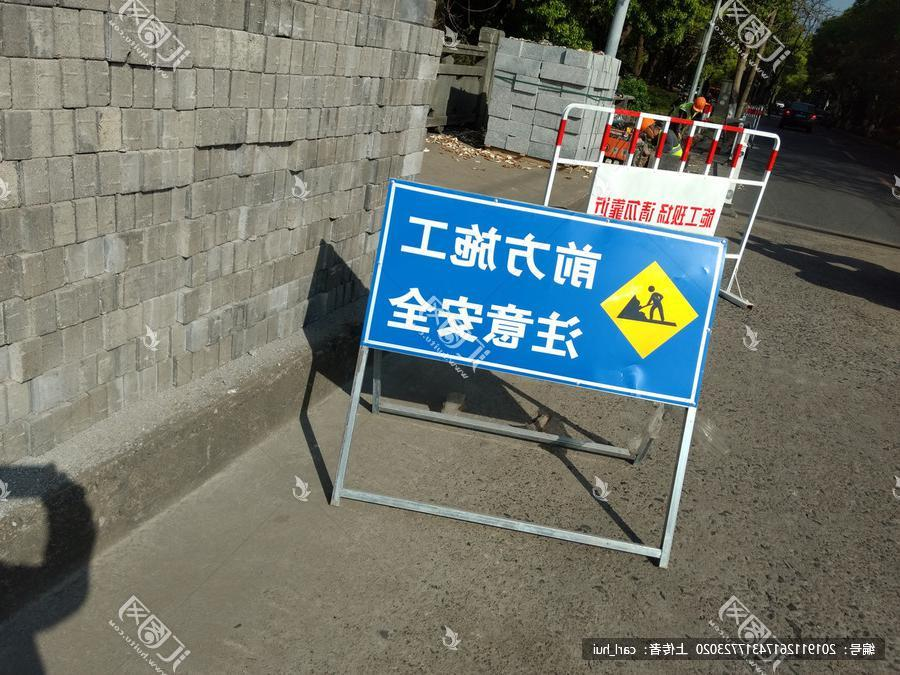sign: (346, 178, 734, 409)
